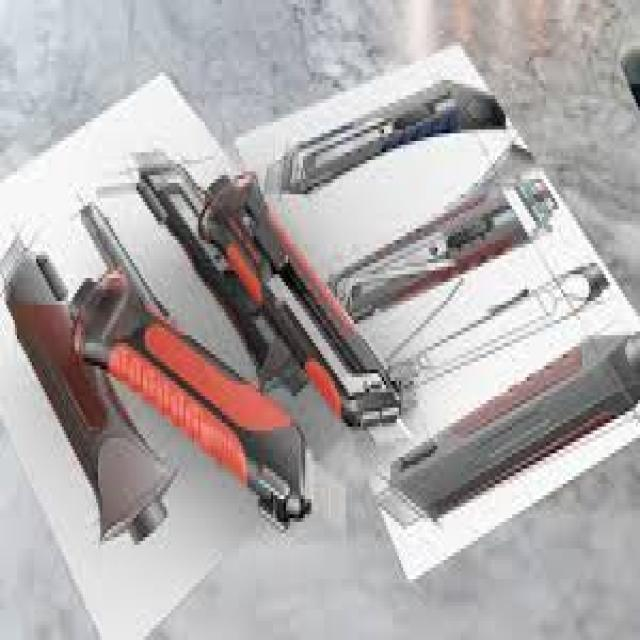cutter: (69, 272, 327, 538), (199, 170, 413, 432)
